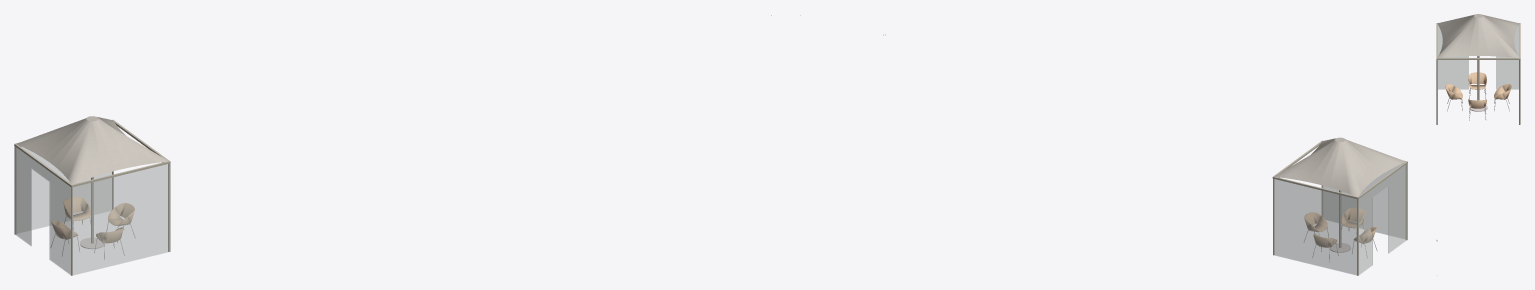
The model's file is UMBRELLA 9.glb.
3 renders of one model, left to right at view 1: azimuth 30°, elevation 25°; view 2: azimuth 150°, elevation 25°; view 3: azimuth 270°, elevation 25°, orthographic. The views are drawn at different scales.
Parts seen in each view (by area): view 1: TRANSPARENT SHEET., CANOPY, POLES, CHAIRS; view 2: TRANSPARENT SHEET., CANOPY, POLES, CHAIRS; view 3: CANOPY, TRANSPARENT SHEET., CHAIRS, POLES, LEGS.
Boxes of the visible parts, x1,y1,x2,y2 form: TRANSPARENT SHEET.: [14, 146, 170, 275]; CANOPY: [16, 116, 168, 184]; POLES: [14, 15, 771, 275]; CHAIRS: [51, 197, 134, 243]; TRANSPARENT SHEET.: [1273, 163, 1407, 275]; CANOPY: [1274, 137, 1405, 196]; POLES: [800, 15, 1407, 275]; CHAIRS: [1304, 207, 1376, 247]; CANOPY: [1437, 14, 1519, 58]; TRANSPARENT SHEET.: [1436, 25, 1518, 124]; CHAIRS: [1445, 72, 1511, 108]; POLES: [1436, 15, 1520, 275]; LEGS: [1447, 88, 1509, 120].
Size of the model in its own units: 19.81 by 3.38 by 2.8.
Materials: 9 (4 with a texture image).
